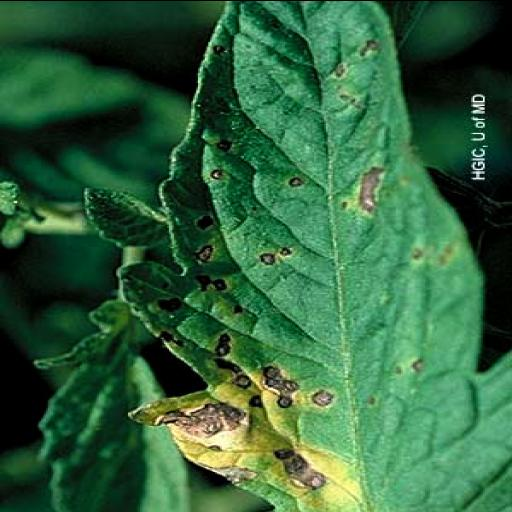Early Blight: (118, 1, 512, 511)
